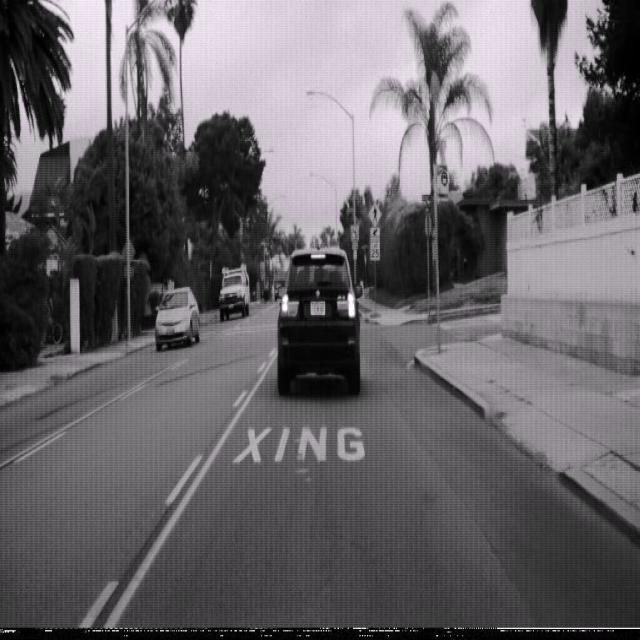pedestrianCrossing: (368, 200, 381, 225)
speedLimit25: (369, 234, 380, 260)
